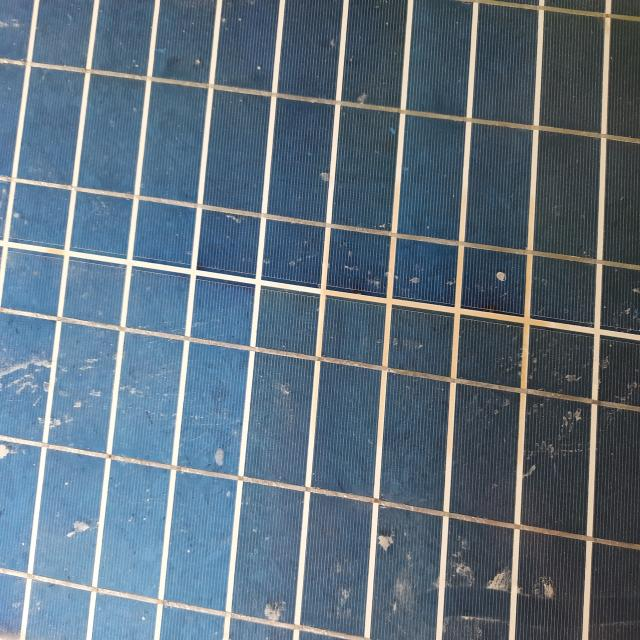dust-solar-panel: (0, 0, 640, 639)
